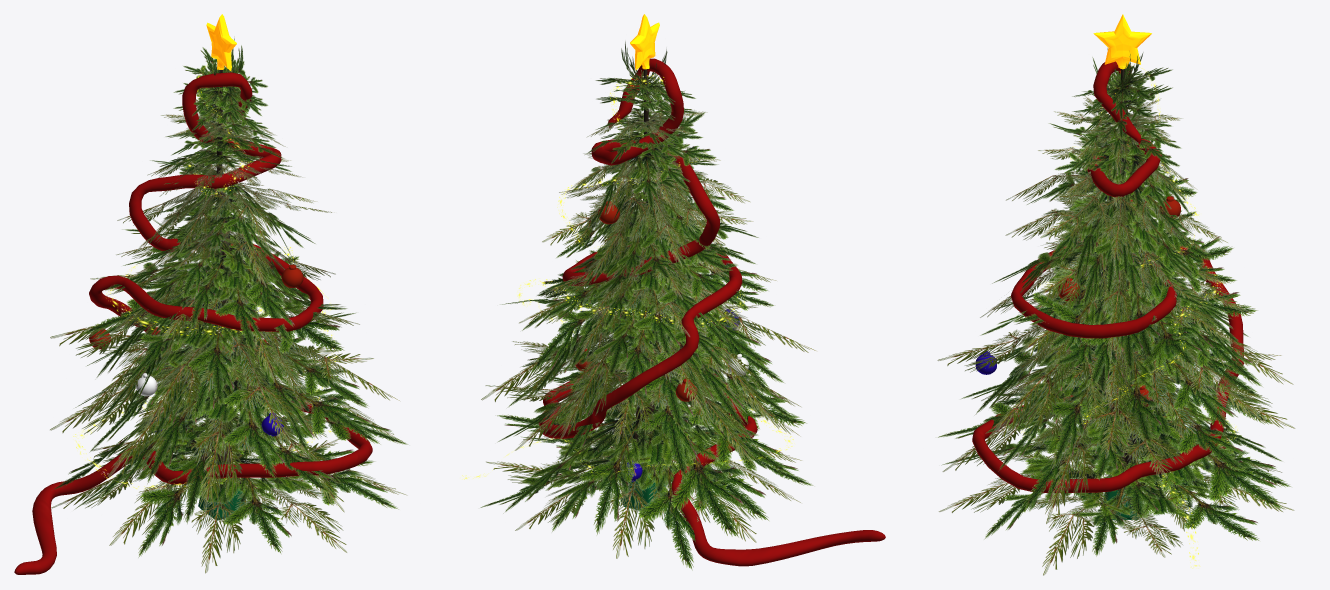
Rendered from realxmastree.glb.
3 views of the same model, side by side, from view 1: azimuth 30°, elevation 25°; view 2: azimuth 150°, elevation 25°; view 3: azimuth 270°, elevation 25° (orthographic).
Visible parts, largest first — view 1: pPlane37_lambert2_0, pPlane37_lambert3_0, pCylinder4_lambert9_0, pSphere1_lambert1_0, pPlane39_lichter_0, pCylinder3_lambert6_0, pCylinder1_lambert5_0, object 7; view 2: pPlane37_lambert2_0, pPlane37_lambert3_0, pCylinder4_lambert9_0, pSphere1_lambert1_0, pPlane39_lichter_0, pCylinder3_lambert6_0, object 7; view 3: pPlane37_lambert2_0, pPlane37_lambert3_0, pCylinder4_lambert9_0, pCylinder3_lambert6_0, pSphere1_lambert1_0, pPlane39_lichter_0.
Boxes of the visible parts, bbox=[...] form: pPlane37_lambert2_0: bbox=[53, 38, 408, 557]; pPlane37_lambert3_0: bbox=[50, 99, 407, 573]; pCylinder4_lambert9_0: bbox=[14, 72, 372, 574]; pSphere1_lambert1_0: bbox=[89, 189, 303, 436]; pPlane39_lichter_0: bbox=[72, 62, 337, 489]; pCylinder3_lambert6_0: bbox=[206, 14, 236, 70]; pCylinder1_lambert5_0: bbox=[210, 70, 232, 462]; object 7: bbox=[198, 483, 244, 520]; pPlane37_lambert2_0: bbox=[480, 41, 813, 570]; pPlane37_lambert3_0: bbox=[481, 90, 815, 558]; pCylinder4_lambert9_0: bbox=[538, 58, 885, 566]; pSphere1_lambert1_0: bbox=[575, 201, 748, 481]; pPlane39_lichter_0: bbox=[461, 74, 794, 479]; pCylinder3_lambert6_0: bbox=[630, 14, 659, 70]; object 7: bbox=[621, 473, 665, 510]; pPlane37_lambert2_0: bbox=[938, 48, 1292, 556]; pPlane37_lambert3_0: bbox=[937, 95, 1295, 575]; pCylinder4_lambert9_0: bbox=[972, 61, 1243, 492]; pCylinder3_lambert6_0: bbox=[1093, 14, 1151, 69]; pSphere1_lambert1_0: bbox=[975, 196, 1202, 406]; pPlane39_lichter_0: bbox=[1021, 68, 1238, 568].
Bounding box in the file's own units: 1.46 × 1.8 × 1.28.
Materials: 8 (6 with a texture image).
